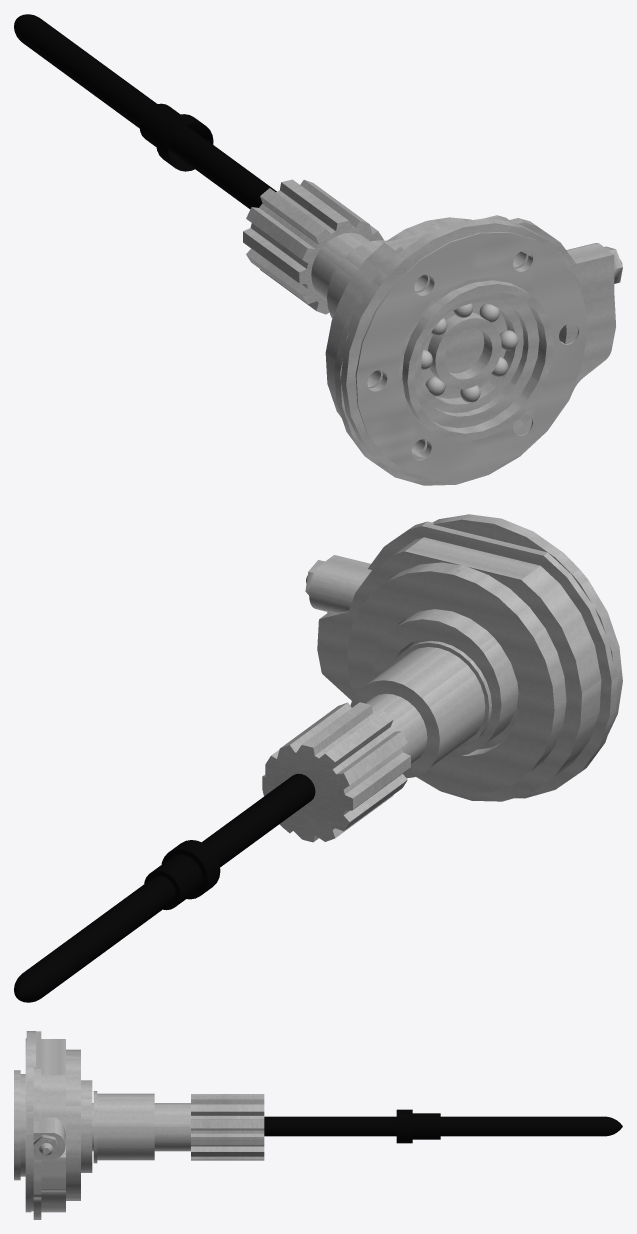
3 renders of one model, top to bottom at view 1: azimuth 30°, elevation 25°; view 2: azimuth 150°, elevation 25°; view 3: azimuth 270°, elevation 25°, orthographic. The views are drawn at different scales.
Visible parts, largest first — view 1: 1, 3, 4, 2; view 2: 1, 4, 2; view 3: 1, 4, 2, 3.
Boxes of the visible parts, x1=… form: 1: x1=243, y1=179, x2=622, y2=485; 3: x1=355, y1=232, x2=586, y2=479; 4: x1=14, y1=14, x2=276, y2=209; 2: x1=339, y1=218, x2=586, y2=481; 1: x1=262, y1=521, x2=617, y2=842; 4: x1=14, y1=773, x2=315, y2=1002; 2: x1=432, y1=514, x2=622, y2=733; 1: x1=14, y1=1031, x2=264, y2=1219; 4: x1=264, y1=1109, x2=622, y2=1143; 2: x1=26, y1=1031, x2=35, y2=1211; 3: x1=25, y1=1038, x2=31, y2=1212.
Bounding box in the file's own units: 205 × 177 × 573.
Materials: 4 (3 with a texture image).
